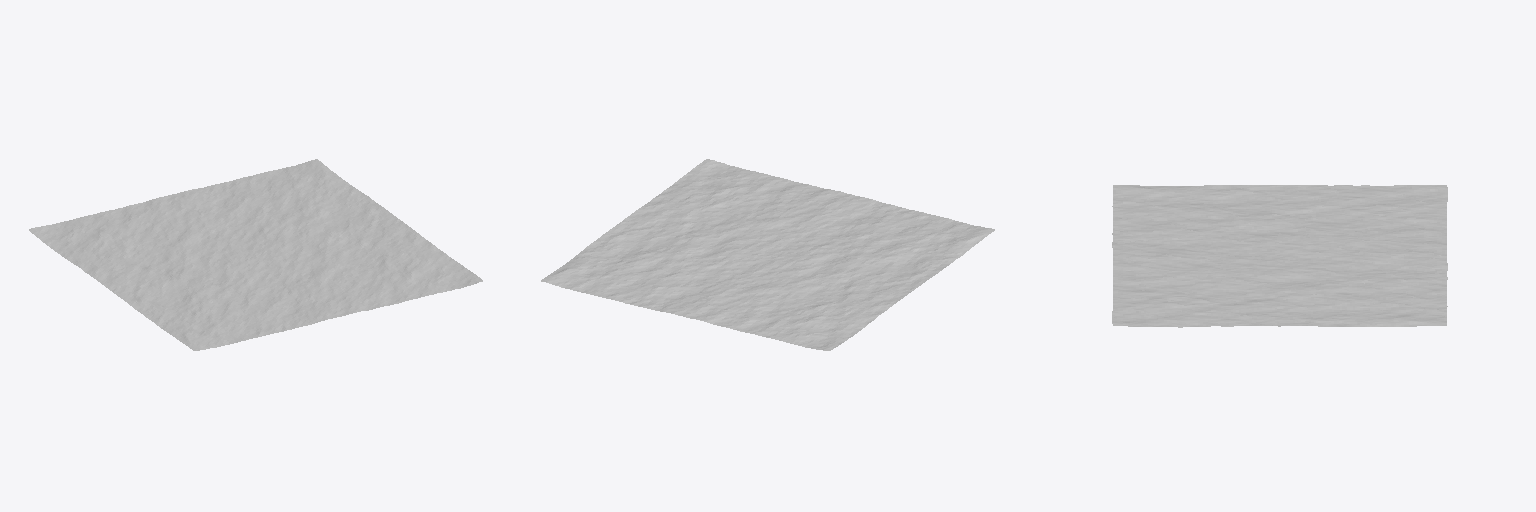
Rendered from sea_000032.obj.
The picture shows the model from 3 angles: view 1: azimuth 30°, elevation 25°; view 2: azimuth 150°, elevation 25°; view 3: azimuth 270°, elevation 25°; orthographic projection.
Parts seen in each view (by area): view 1: Plane; view 2: Plane; view 3: Plane.
Part boxes in pixels (bbox=[...]): Plane: bbox=[29, 159, 482, 350]; Plane: bbox=[541, 159, 994, 350]; Plane: bbox=[1112, 185, 1447, 327].
Bounding box in the file's own units: 201 × 1.63 × 201.